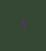seven: (19, 20, 25, 30)
